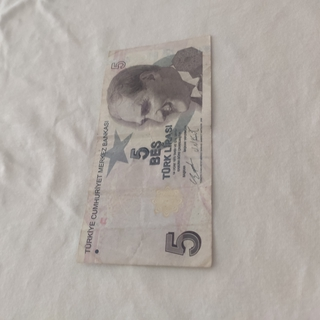5TLFront: (78, 35, 213, 270)
